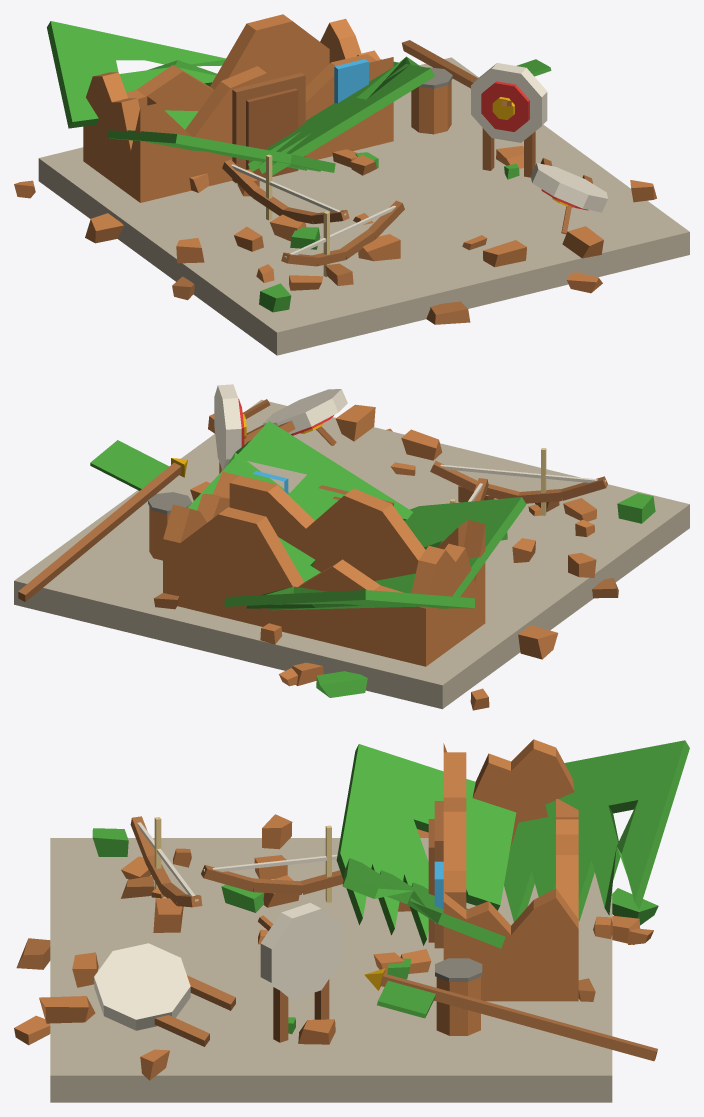
The model's file is archery_range_t2_v1_dmg2.glb.
The picture shows the model from 3 angles, top to bottom: view 1: azimuth 30°, elevation 25°; view 2: azimuth 150°, elevation 25°; view 3: azimuth 270°, elevation 25°; orthographic projection. The views are drawn at different scales.
Visible parts, largest first — view 1: archery_range_t2_v1_dmg2; view 2: archery_range_t2_v1_dmg2; view 3: archery_range_t2_v1_dmg2.
Boxes of the visible parts, left/top/right/bottom form: archery_range_t2_v1_dmg2: left=14, top=14, right=689, bottom=355; archery_range_t2_v1_dmg2: left=14, top=384, right=689, bottom=710; archery_range_t2_v1_dmg2: left=14, top=739, right=689, bottom=1102.
Bounding box in the file's own units: 0.83 × 0.2206 × 0.9024.
Materials: 1 (1 with a texture image).
